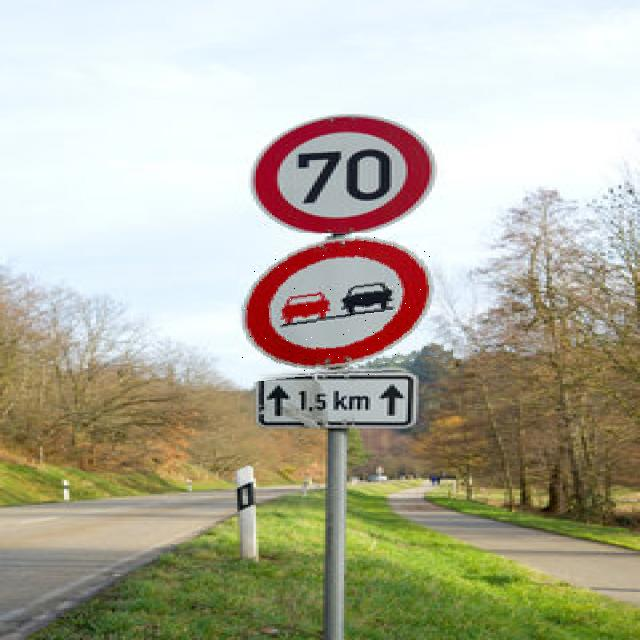no overtaking: (237, 233, 450, 377)
